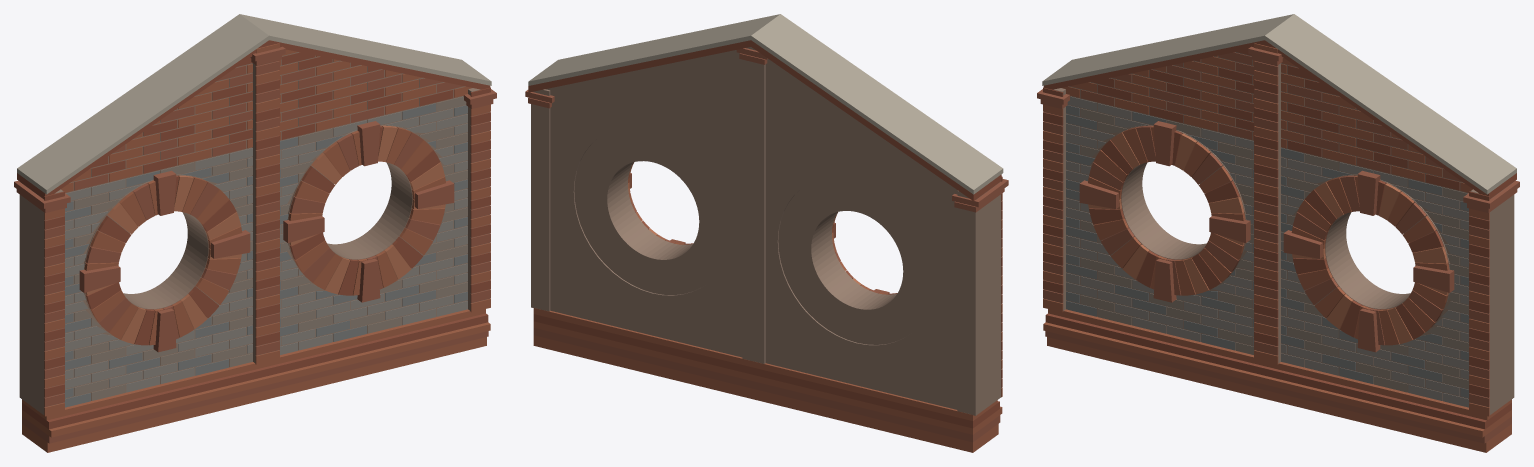
File: hongkou-royal-hotel-paired-brick-roundels-lod.glb
3 views of the same model, side by side, from view 1: azimuth 30°, elevation 25°; view 2: azimuth 150°, elevation 25°; view 3: azimuth 330°, elevation 25° (orthographic).
Parts seen in each view (by area): view 1: 皇家旅馆旧址中段山墙的双圆窗与放射砖券; view 2: 皇家旅馆旧址中段山墙的双圆窗与放射砖券; view 3: 皇家旅馆旧址中段山墙的双圆窗与放射砖券.
Boxes of the visible parts, x1=… form: 皇家旅馆旧址中段山墙的双圆窗与放射砖券: x1=14, y1=14, x2=496, y2=452; 皇家旅馆旧址中段山墙的双圆窗与放射砖券: x1=525, y1=14, x2=1008, y2=452; 皇家旅馆旧址中段山墙的双圆窗与放射砖券: x1=1037, y1=14, x2=1519, y2=452.
Size of the model in its own units: 3.91 by 3.01 by 0.47.
